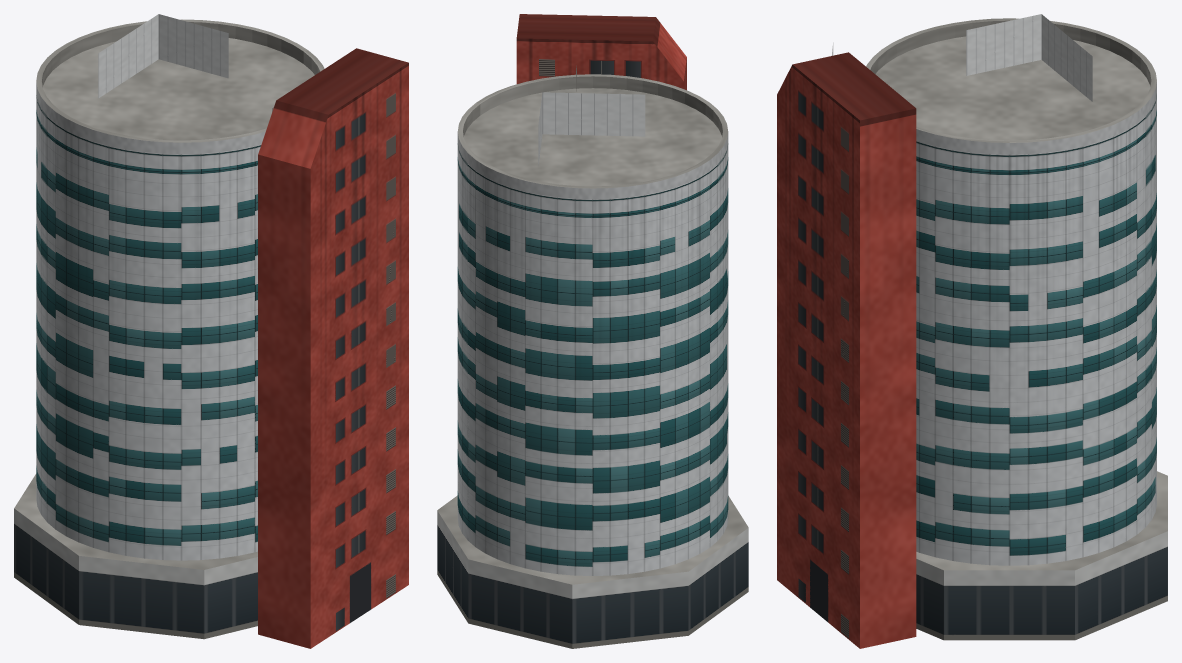
The model's file is source.glb.
3 renders of one model, left to right at view 1: azimuth 30°, elevation 25°; view 2: azimuth 150°, elevation 25°; view 3: azimuth 270°, elevation 25°, orthographic. The views are drawn at different scales.
Visible parts, largest first — view 1: tower, slab, slab_side, plinth, roof, state1_slab, state1_slab_side, state1_tower, mach, state2_slab, parapet_in, state2_tower (+1 smaller); view 2: tower, plinth, state1_tower, roof, slab, parapet_in, mach, slab_side, plinth_top, state2_tower; view 3: tower, slab, slab_side, state1_tower, plinth, roof, state1_slab_side, state1_slab, mach, state2_slab, parapet_in, state2_slab_side (+2 smaller).
Boxes of the visible parts, x1,y1,x2,y2 form: tower: [36, 83, 265, 560]; slab: [310, 63, 408, 648]; slab_side: [258, 48, 408, 648]; plinth: [14, 508, 257, 639]; roof: [43, 38, 314, 140]; state1_slab: [310, 280, 408, 648]; state1_slab_side: [258, 345, 310, 646]; state1_tower: [36, 361, 257, 560]; mach: [98, 14, 228, 98]; state2_slab: [311, 478, 408, 647]; parapet_in: [36, 19, 324, 142]; state2_tower: [36, 475, 257, 560]; tower: [457, 132, 728, 575]; plinth: [437, 511, 748, 648]; state1_tower: [457, 367, 727, 575]; roof: [464, 88, 721, 186]; slab: [516, 38, 683, 88]; parapet_in: [457, 74, 728, 188]; mach: [538, 92, 645, 166]; slab_side: [516, 14, 686, 90]; plinth_top: [437, 495, 748, 584]; state2_tower: [458, 498, 727, 575]; tower: [916, 82, 1156, 565]; slab: [777, 64, 859, 648]; slab_side: [793, 52, 916, 648]; state1_tower: [916, 355, 1156, 565]; plinth: [916, 531, 1167, 640]; roof: [875, 36, 1150, 140]; state1_slab_side: [860, 326, 916, 647]; state1_slab: [777, 293, 859, 648]; mach: [966, 14, 1092, 101]; state2_slab: [777, 478, 859, 646]; parapet_in: [866, 18, 1156, 142]; state2_slab_side: [860, 538, 915, 647].
Size of the model in its own units: 23.99 by 41.5 by 27.81.
8 materials, 8 textured.
